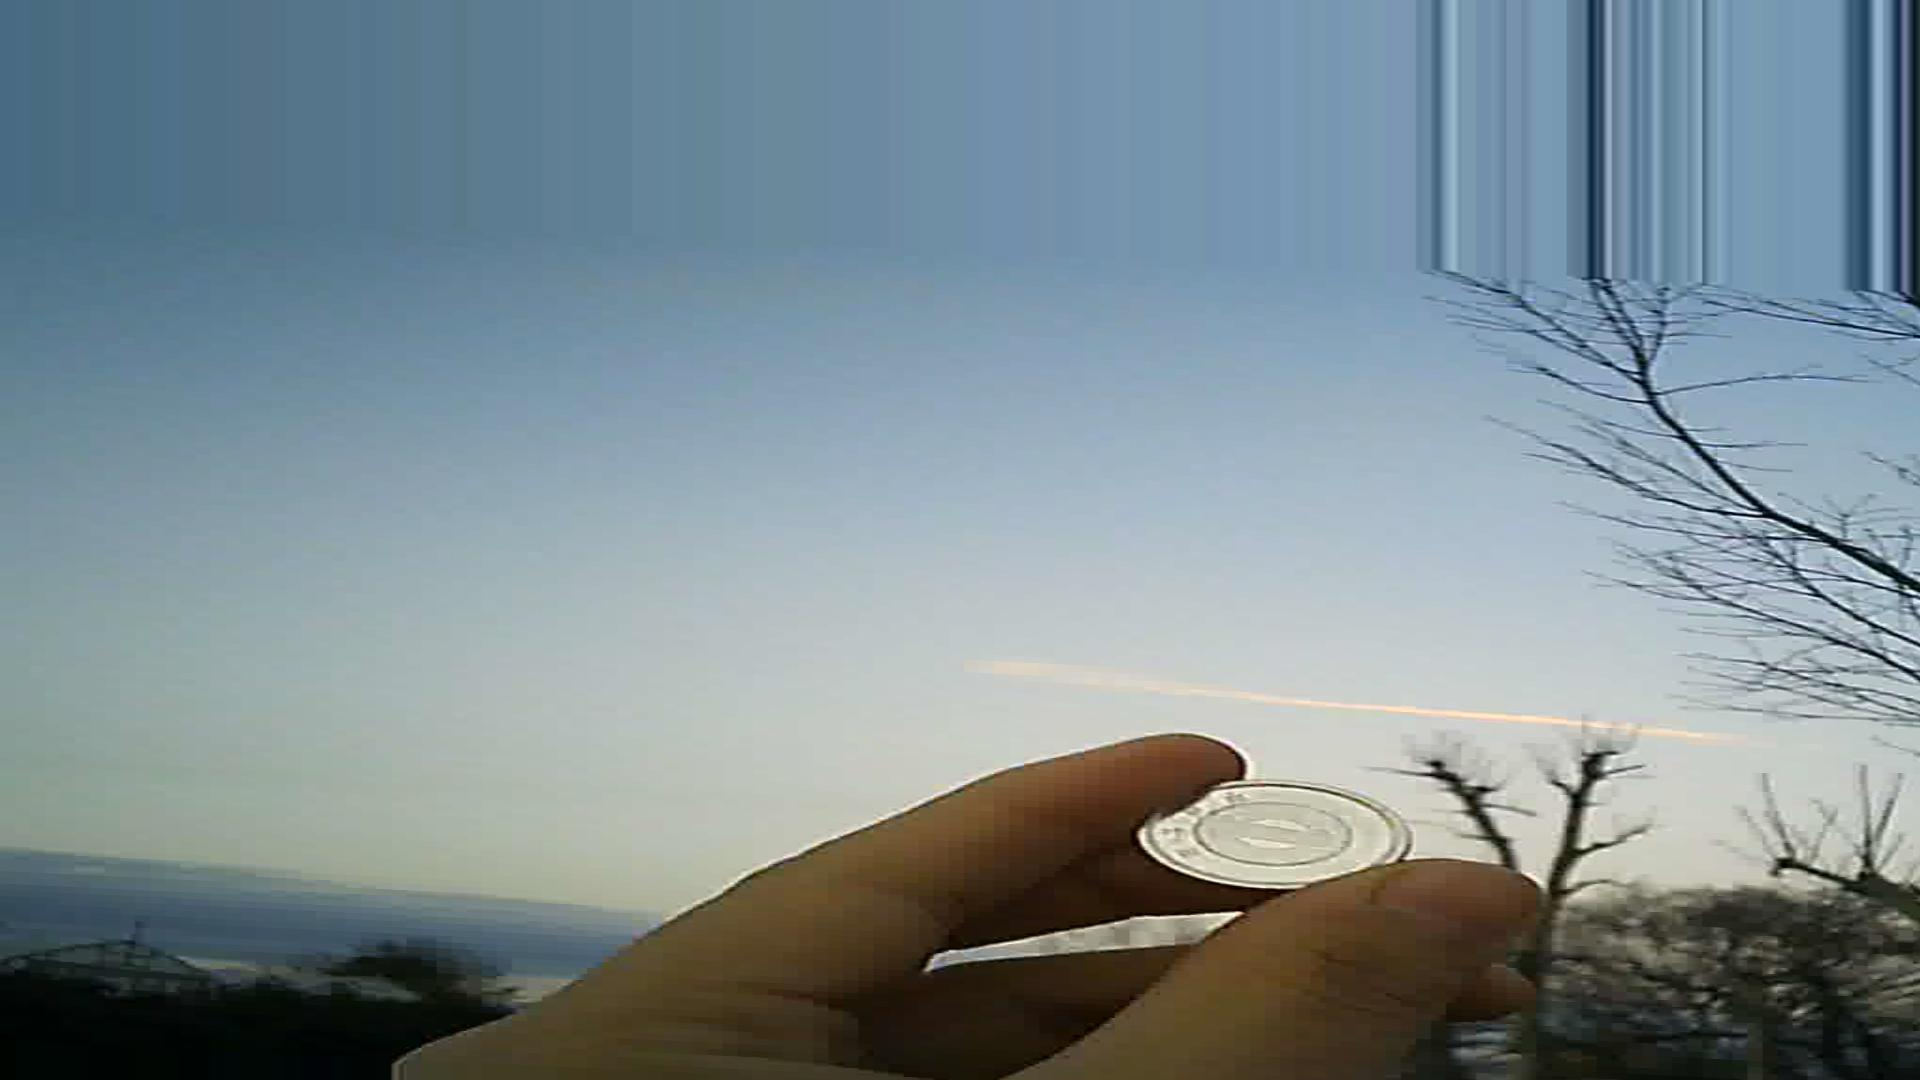1 Yen: (1120, 760, 1410, 893)
